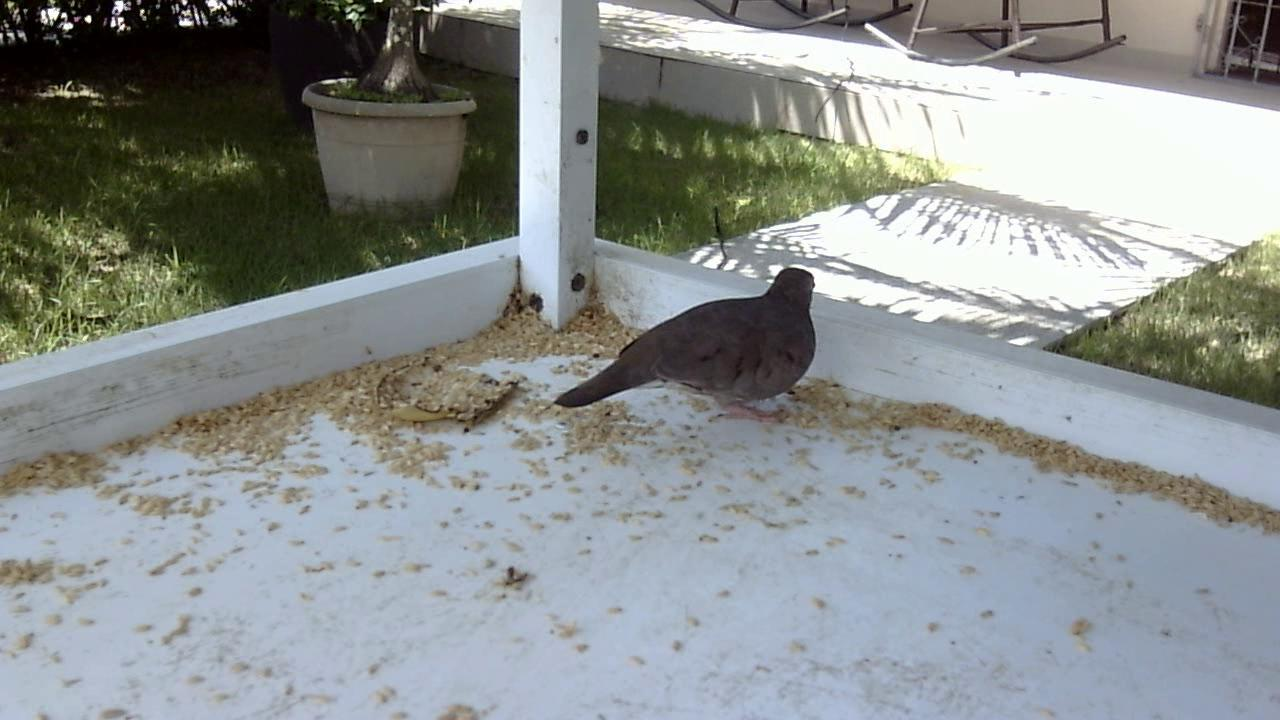rolinha: (540, 261, 826, 433)
